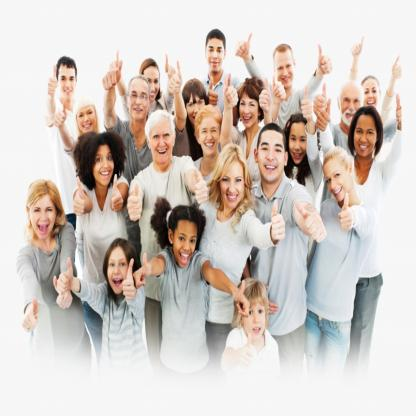Thumbs-Up: (293, 195, 328, 248), (90, 60, 131, 94), (126, 178, 147, 223), (18, 294, 40, 336), (266, 200, 286, 243), (187, 166, 208, 204), (221, 74, 242, 112), (234, 31, 258, 64), (107, 172, 125, 215), (314, 42, 336, 77), (233, 273, 249, 318), (53, 100, 74, 134), (338, 190, 352, 241), (270, 72, 289, 109), (57, 260, 76, 292), (72, 178, 87, 218), (317, 95, 332, 133), (300, 83, 314, 123), (256, 75, 270, 113), (168, 60, 183, 95), (160, 47, 178, 76), (388, 56, 406, 84), (136, 256, 149, 294), (348, 35, 366, 62), (124, 259, 136, 299), (47, 65, 58, 97), (118, 65, 118, 69)
